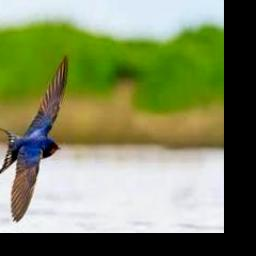Swallow: (0, 52, 67, 222)
